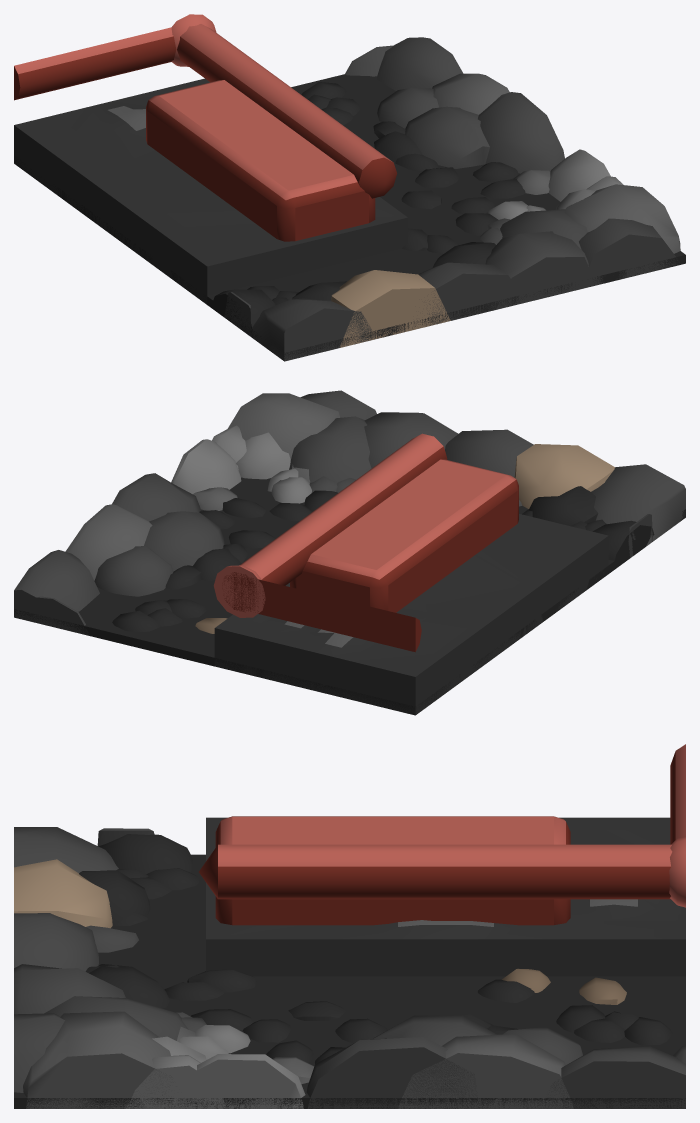
Rendered from red_works_br.glb.
3 views of the same model, one above another, from view 1: azimuth 30°, elevation 25°; view 2: azimuth 150°, elevation 25°; view 3: azimuth 270°, elevation 25° (orthographic). The views are drawn at different scales.
Visible parts, largest first — view 1: deck, red_right_low, rocks_base, pipe_right, rocks_15, pipe_low, rocks_51, rocks_48, rocks_36, rocks_70, rocks_69, rocks_60 (+23 smaller); view 2: deck, red_right_low, rocks_base, pipe_right, pipe_low, rocks_48, rocks_15, rocks_25, rocks_21, rocks_61, rocks_24, rocks_60 (+21 smaller); view 3: rocks_base, deck, pipe_right, red_right_low, rocks_21, rocks_36, rocks_24, rocks_25, rocks_3, rocks_15, rocks_69, rocks_4 (+32 smaller).
Part boxes in pixels (x1,y1,x2,y2): deck: [14, 78, 407, 304]; red_right_low: [146, 80, 375, 241]; rocks_base: [14, 74, 685, 361]; pipe_right: [177, 24, 397, 198]; rocks_15: [331, 270, 450, 347]; pipe_low: [14, 27, 176, 100]; rocks_51: [485, 231, 595, 309]; rocks_48: [247, 298, 377, 361]; rocks_36: [478, 92, 564, 173]; rocks_70: [579, 218, 679, 287]; rocks_69: [401, 262, 516, 332]; rocks_60: [405, 106, 489, 168]; deck: [214, 514, 608, 715]; red_right_low: [290, 459, 518, 612]; rocks_base: [14, 477, 685, 714]; pipe_right: [222, 433, 447, 612]; pipe_low: [232, 576, 421, 652]; rocks_48: [591, 464, 685, 546]; rocks_15: [514, 444, 614, 508]; rocks_25: [14, 550, 99, 627]; rocks_21: [227, 393, 339, 459]; rocks_61: [289, 416, 371, 482]; rocks_24: [65, 504, 152, 580]; rocks_60: [144, 511, 224, 571]; rocks_base: [14, 854, 685, 1108]; deck: [206, 817, 685, 976]; pipe_right: [199, 844, 672, 899]; red_right_low: [215, 816, 570, 925]; rocks_21: [23, 1011, 189, 1108]; rocks_36: [306, 1037, 477, 1108]; rocks_24: [398, 1034, 573, 1108]; rocks_25: [539, 1046, 685, 1108]; rocks_3: [173, 1054, 305, 1108]; rocks_15: [14, 859, 112, 928]; rocks_69: [14, 913, 98, 971]; rocks_4: [125, 1055, 225, 1108].
Bounding box in the file's own units: 24 × 6.07 × 28.
